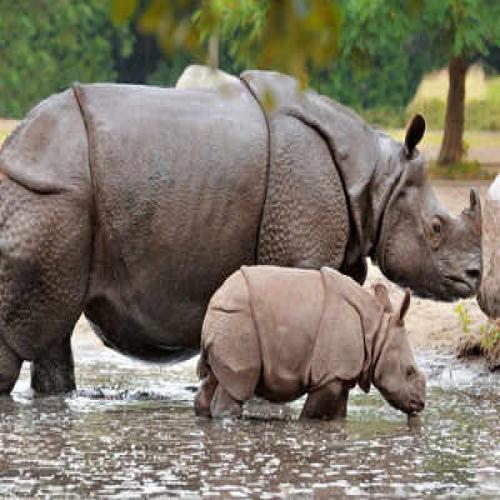rhino-endangered: (0, 76, 484, 396), (194, 266, 427, 424)
